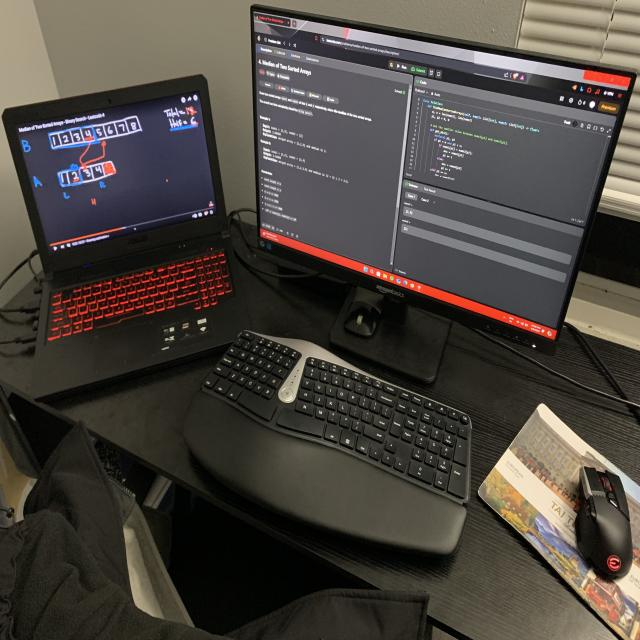Mouse: (573, 459, 639, 586), (341, 284, 382, 340)
